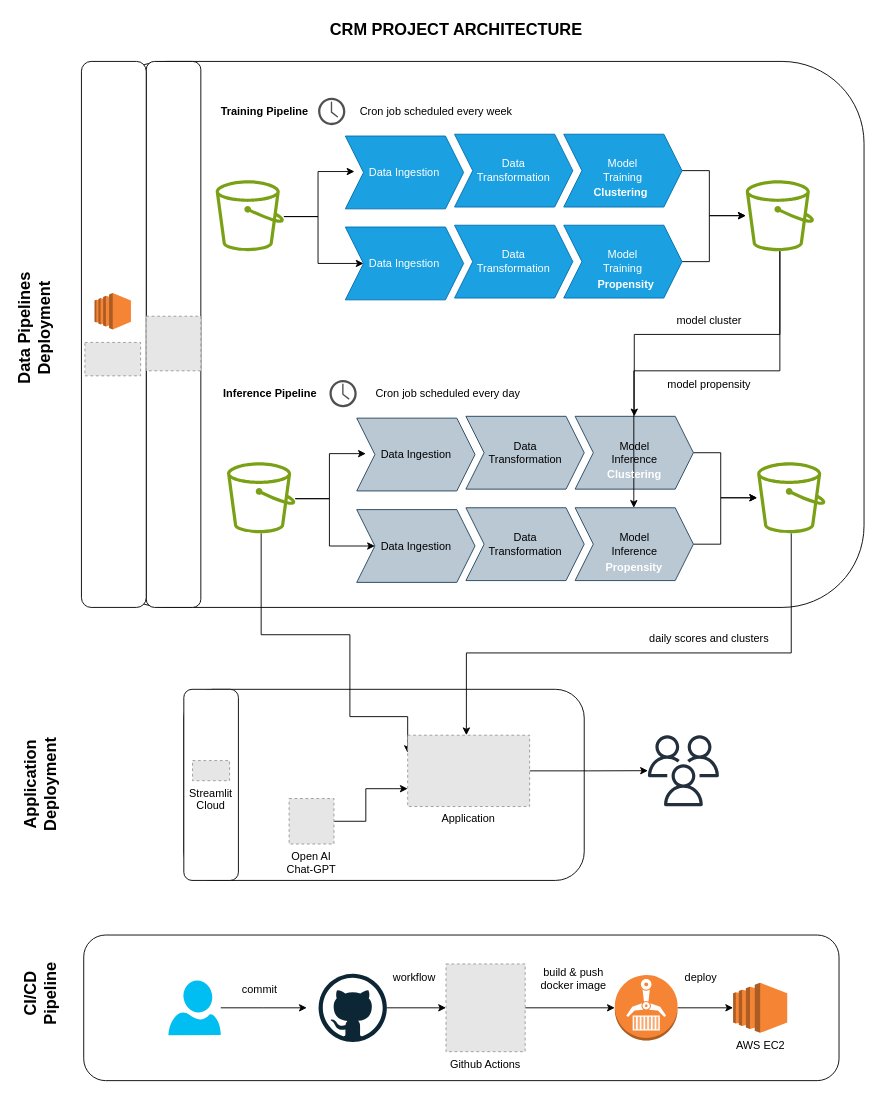
Image size: 881x1116. Some labels were removed from this diagram. Grey dashed boxes stand in for pictures. The shapes that lost their labels are listed below. From the top down, each one's centre as x and y in pixels, then its label:
point 249,215: S3: Raw Data
point 779,215: S3: Model Store
point 261,497: S3: Daily Data
point 791,497: S3: Batch Score Output
point 682,770: Users
point 194,1007: Dev
point 352,1007: Github Repository
point 646,1007: AWS Container Registry
